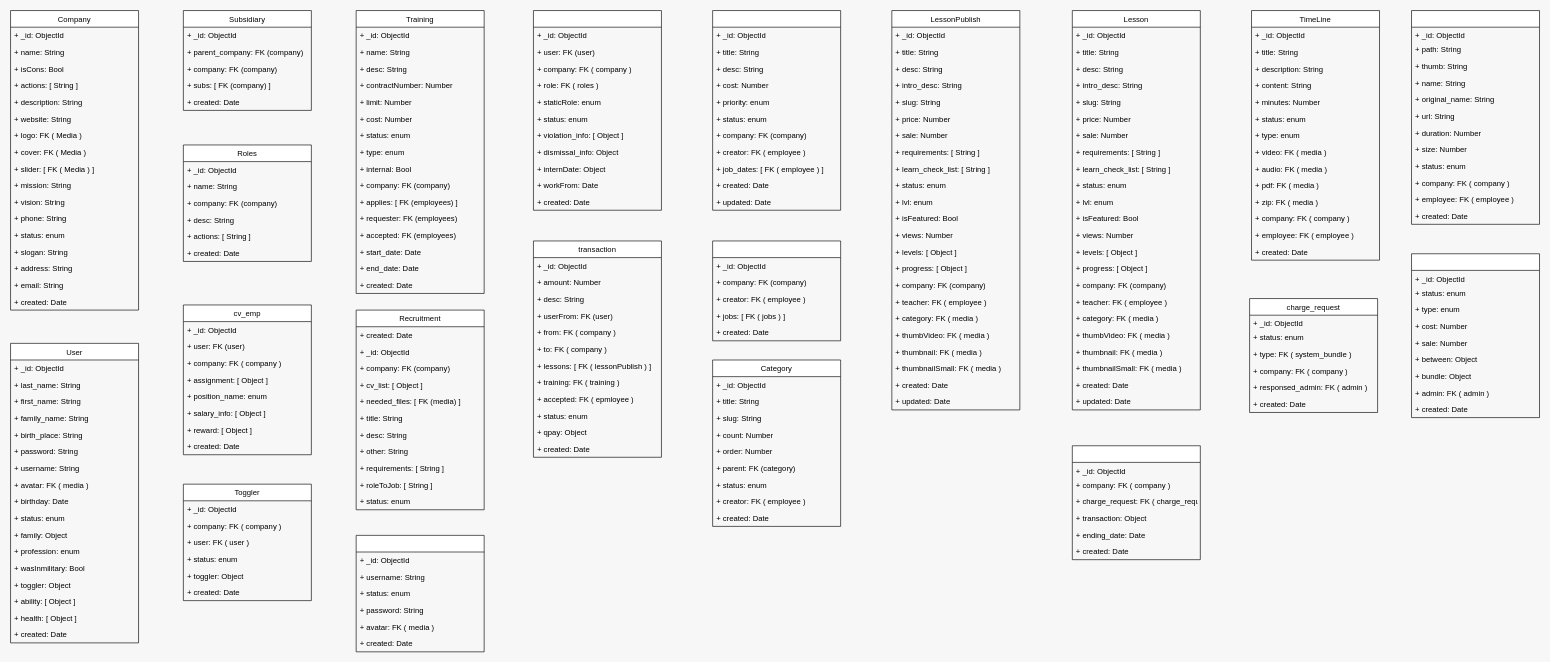
Some shapes in this 1550 by 662 pixel diagram are drawn without their labels. The shapes that lost their labels are listed below. From the top down, each one's box as (x1, y1, x2, y2) in pixels, then its label:
(533, 10, 661, 210): employee
(712, 10, 841, 210): Jobs
(1411, 10, 1540, 224): Media
(712, 240, 841, 341): WorkPlan
(1411, 253, 1540, 418): system_bundle
(1072, 445, 1200, 560): Company_transaction
(356, 535, 484, 652): Admin
